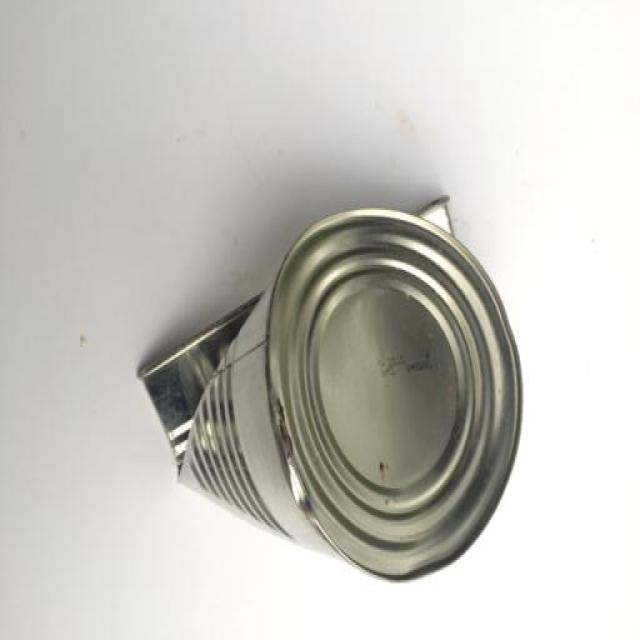Metal: (138, 195, 525, 585)
